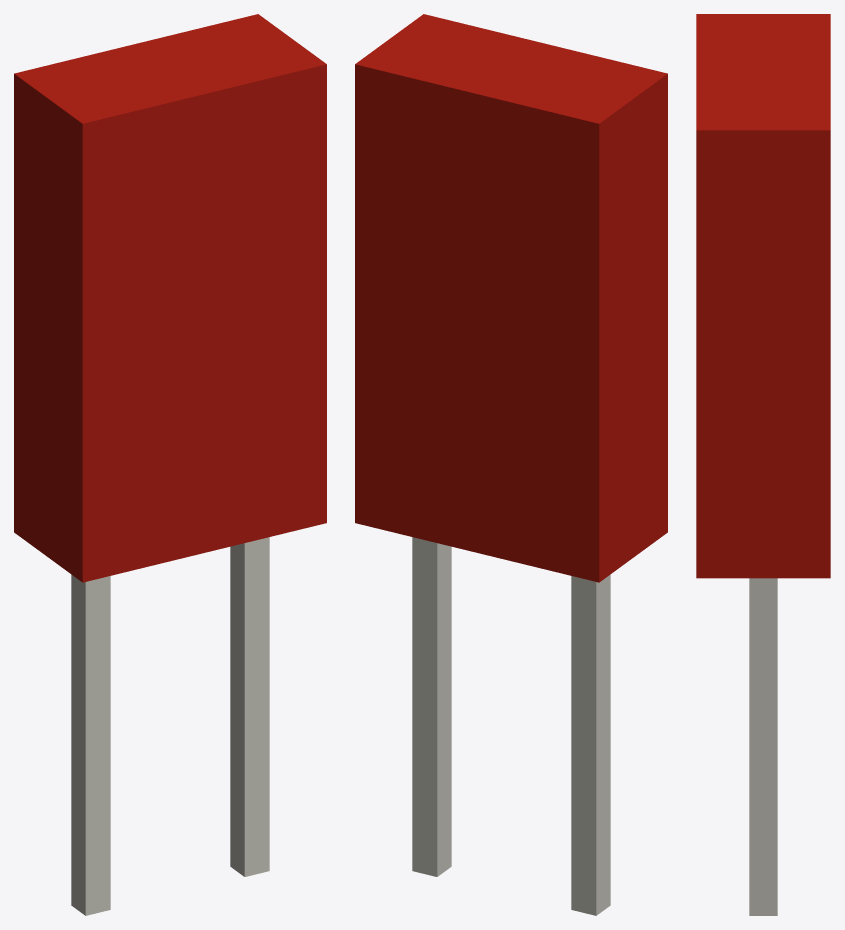
Rendered from kc-led_rectangular_w3.9mm_h1.9mm.glb.
The picture shows the model from 3 angles, left to right: view 1: azimuth 30°, elevation 25°; view 2: azimuth 150°, elevation 25°; view 3: azimuth 270°, elevation 25°; orthographic projection. The views are drawn at different scales.
Visible parts, largest first — view 1: 0.4166666666666667_0_0_0, 0.6666666666666666_0.6666666666666666_0.5833333333333334_0.8; view 2: 0.4166666666666667_0_0_0, 0.6666666666666666_0.6666666666666666_0.5833333333333334_0.8; view 3: 0.4166666666666667_0_0_0, 0.6666666666666666_0.6666666666666666_0.5833333333333334_0.8.
Part boxes in pixels (x1,y1,x2,y2): 0.4166666666666667_0_0_0: (14,14,326,582); 0.6666666666666666_0.6666666666666666_0.5833333333333334_0.8: (71,537,269,915); 0.4166666666666667_0_0_0: (355,14,667,582); 0.6666666666666666_0.6666666666666666_0.5833333333333334_0.8: (412,537,610,915); 0.4166666666666667_0_0_0: (696,14,830,578); 0.6666666666666666_0.6666666666666666_0.5833333333333334_0.8: (749,578,777,915).
Size of the model in its own units: 0.39 by 1.25 by 0.19.
